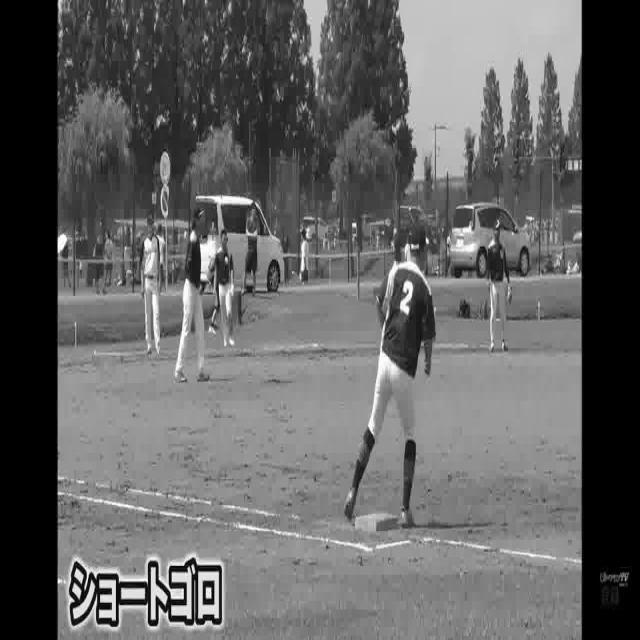base: (354, 512, 399, 532)
shoe: (398, 499, 421, 535), (339, 489, 360, 523), (196, 366, 213, 386), (176, 366, 188, 388)
